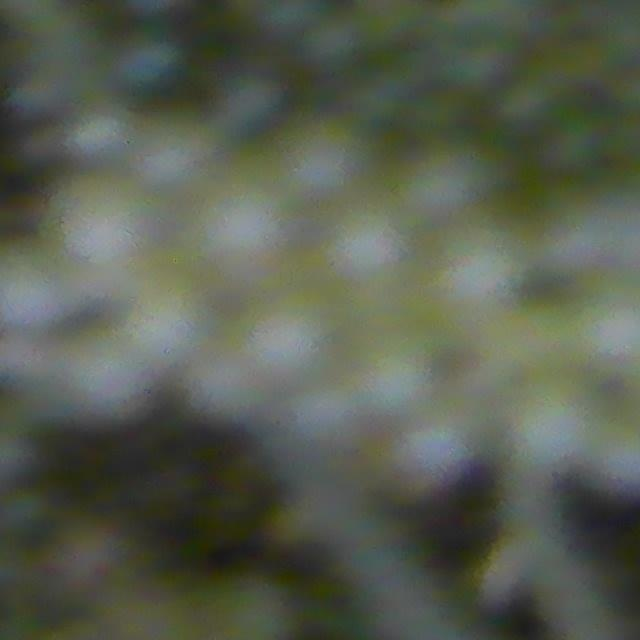SeaGrape: (177, 188, 294, 305), (43, 175, 161, 286), (266, 114, 373, 213), (508, 180, 606, 282), (228, 296, 331, 391), (500, 371, 596, 472), (368, 410, 473, 498), (431, 223, 525, 317), (343, 330, 431, 429), (0, 238, 78, 339), (319, 212, 410, 298), (131, 119, 213, 212), (570, 284, 640, 383), (414, 143, 487, 225), (586, 415, 640, 501), (66, 105, 135, 170)
